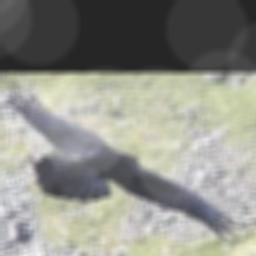Crow: (5, 94, 243, 239)
